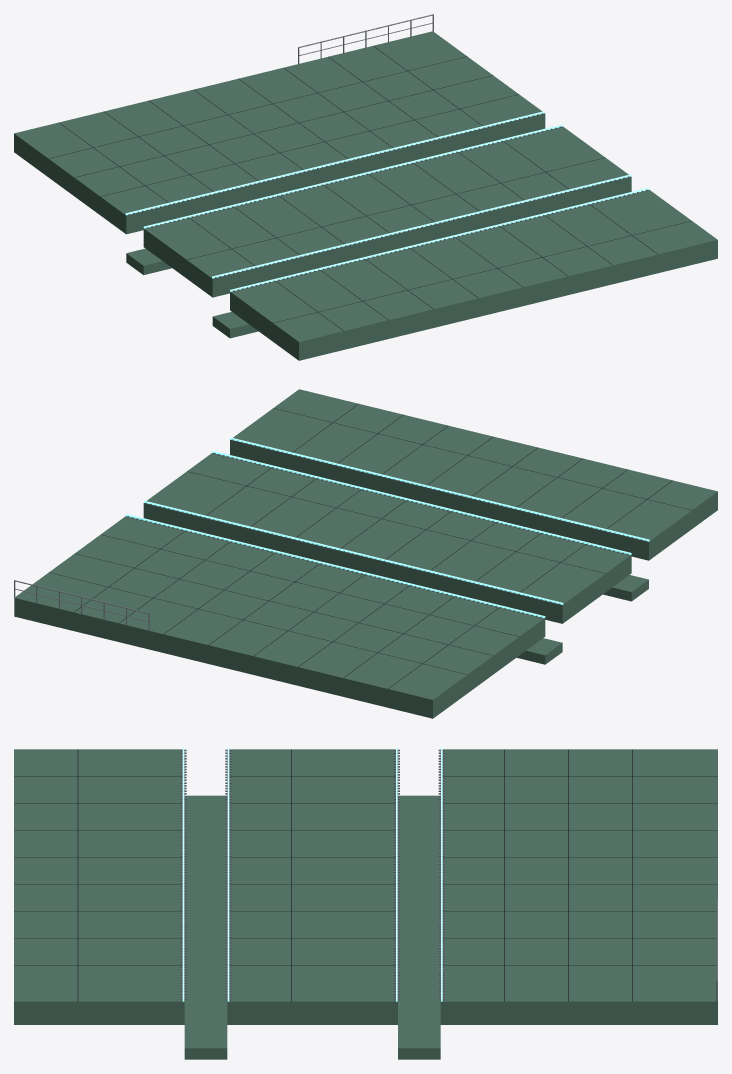
3 views of the same model, one above another, from view 1: azimuth 30°, elevation 25°; view 2: azimuth 150°, elevation 25°; view 3: azimuth 270°, elevation 25° (orthographic). The views are drawn at different scales.
Visible parts, largest first — view 1: p0_m5; view 2: p0_m5; view 3: p0_m5.
Part boxes in pixels (x1,y1,x2,y2): p0_m5: (14, 14, 717, 360); p0_m5: (14, 389, 717, 718); p0_m5: (14, 747, 717, 1059).
Bounding box in the file's own units: 28.03 × 4.11 × 33.
